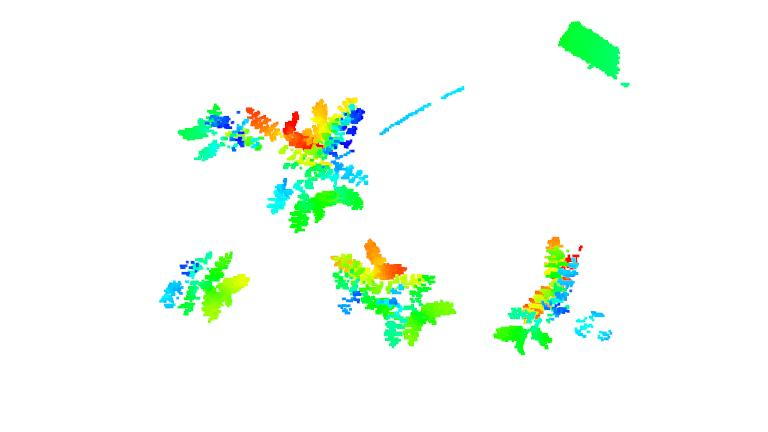chickpea: (496, 223, 602, 357), (331, 233, 404, 343), (261, 95, 373, 162), (165, 97, 266, 169), (158, 251, 252, 327), (383, 266, 461, 352), (272, 166, 374, 227)
